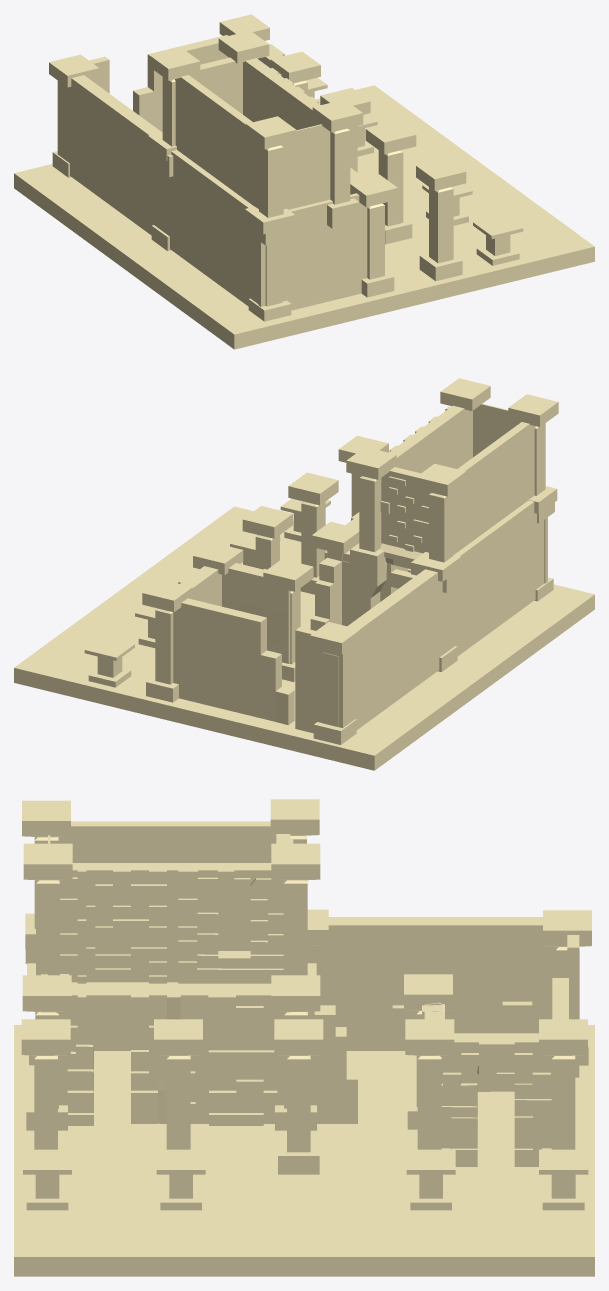
File: ruinV2joinedtest.fbx
3 views of the same model, one above another, from view 1: azimuth 30°, elevation 25°; view 2: azimuth 150°, elevation 25°; view 3: azimuth 270°, elevation 25° (orthographic). The views are drawn at different scales.
Parts seen in each view (by area): view 1: ruin; view 2: ruin; view 3: ruin.
Part boxes in pixels (x1,y1,x2,y2): ruin: (14,14,594,349); ruin: (14,378,594,770); ruin: (14,799,594,1276).
Bounding box in the file's own units: 2178 × 1164 × 2306.
